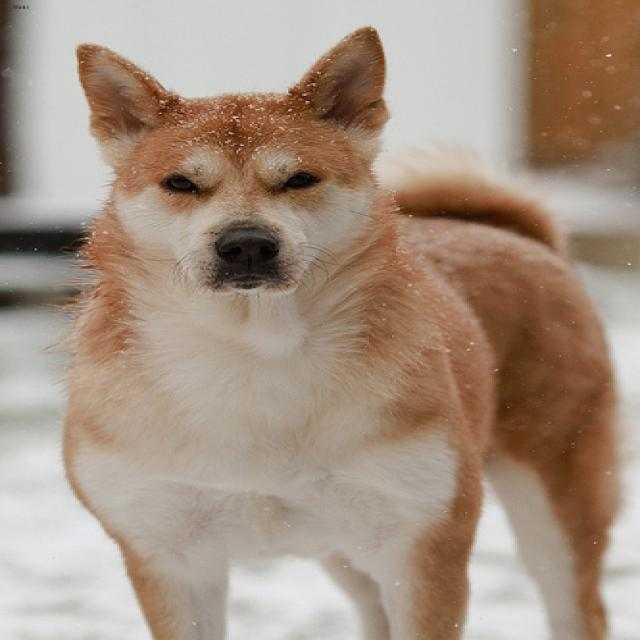dog-shiba_inu: (50, 10, 636, 637)
